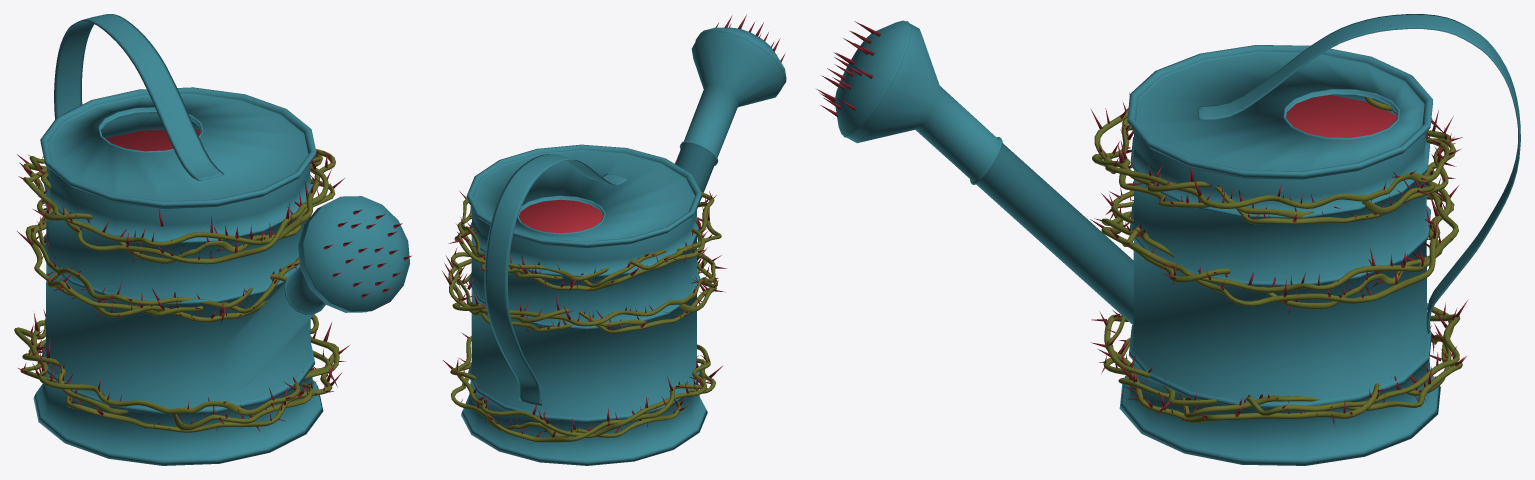
The model's file is suluk.fbx.
3 renders of one model, left to right at view 1: azimuth 30°, elevation 25°; view 2: azimuth 150°, elevation 25°; view 3: azimuth 270°, elevation 25°, orthographic. The views are drawn at different scales.
Visible parts, largest first — view 1: Cylinder.049; view 2: Cylinder.049; view 3: Cylinder.049.
Part boxes in pixels (left/top/right/bottom): Cylinder.049: left=14, top=14, right=411, bottom=465; Cylinder.049: left=442, top=15, right=786, bottom=465; Cylinder.049: left=816, top=14, right=1520, bottom=465.
Bounding box in the file's own units: 46.6 × 51.92 × 88.34.
